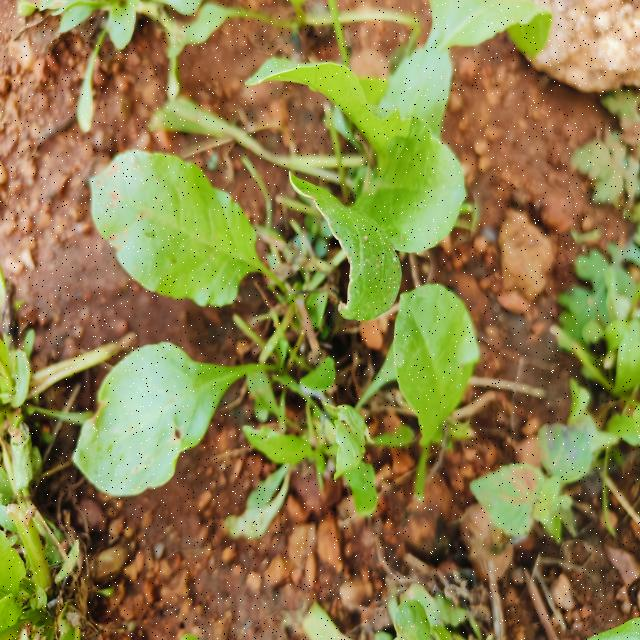leaves: (92, 145, 314, 352), (67, 342, 335, 508), (289, 139, 469, 362), (365, 289, 490, 491)
